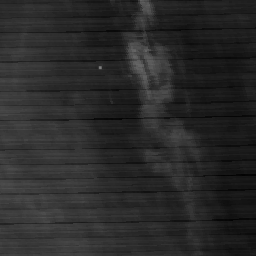Target: (97, 64, 103, 71)
